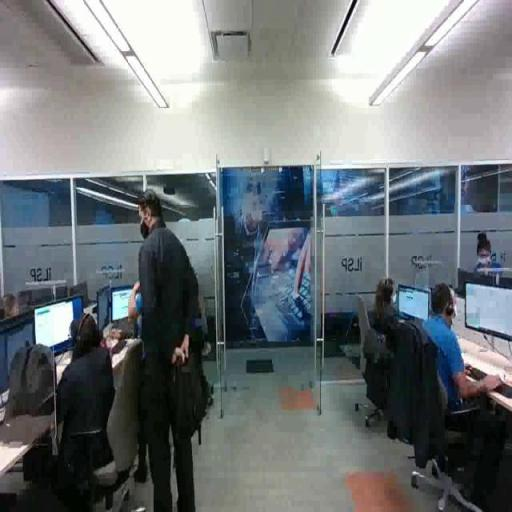person: (407, 280, 512, 508), (25, 304, 134, 512), (136, 186, 205, 512), (357, 269, 417, 369), (471, 233, 512, 298)
